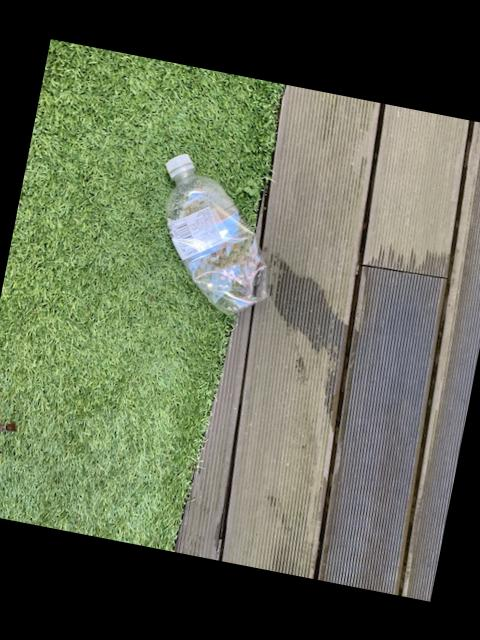plastic: (166, 156, 267, 315)
